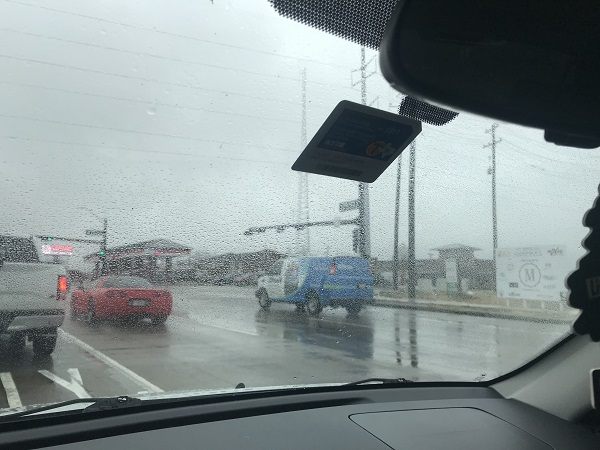car: (69, 275, 174, 325)
truck: (1, 230, 66, 354), (255, 256, 372, 316)
